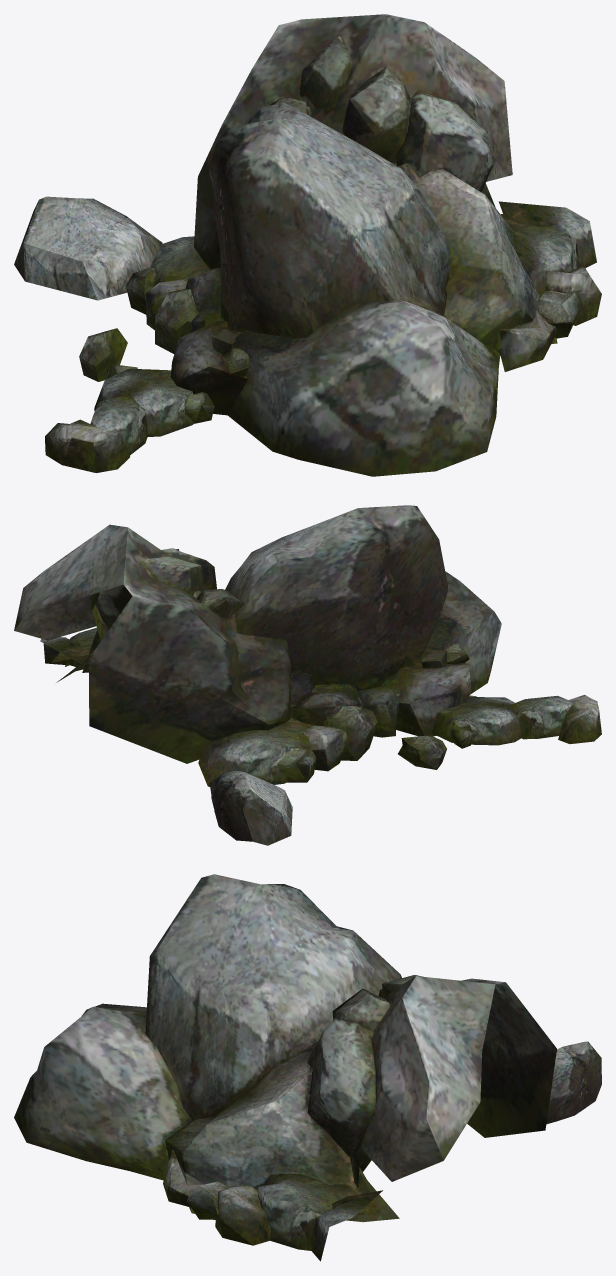
File: dashitou03.FBX
3 renders of one model, top to bottom at view 1: azimuth 30°, elevation 25°; view 2: azimuth 150°, elevation 25°; view 3: azimuth 270°, elevation 25°, orthographic. The views are drawn at different scales.
Visible parts, largest first — view 1: dashitou03; view 2: dashitou03; view 3: dashitou03.
Boxes of the visible parts, bbox=[...] form: dashitou03: bbox=[14, 14, 601, 476]; dashitou03: bbox=[14, 505, 601, 845]; dashitou03: bbox=[14, 874, 601, 1261].
Size of the model in its own units: 4.44 by 1.82 by 4.15.
